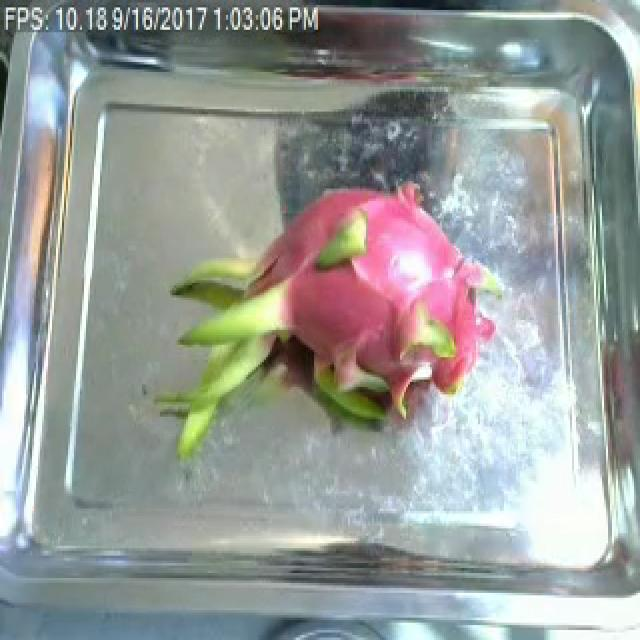fruit: (140, 144, 508, 484)
